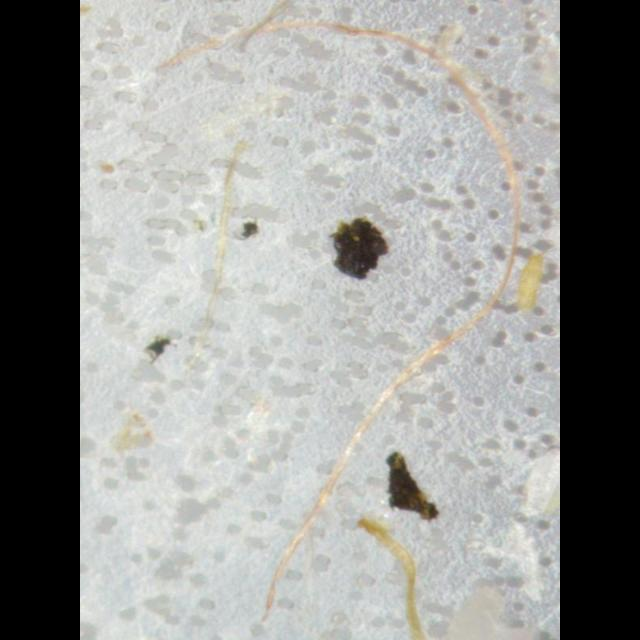Fibre: (154, 12, 546, 640), (345, 508, 449, 640), (519, 244, 551, 330)
